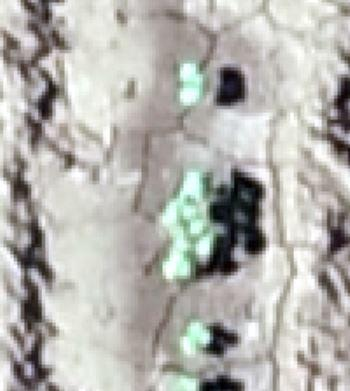cotton: (168, 237, 211, 273), (165, 201, 208, 233), (179, 60, 205, 102), (181, 321, 210, 351), (163, 373, 197, 391), (183, 172, 204, 198)
